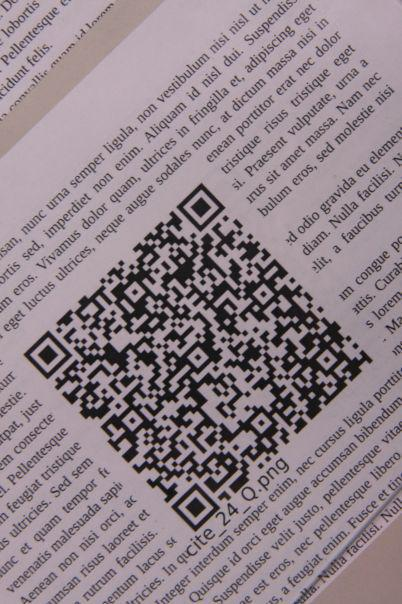Finder pattern: (171, 180, 231, 231), (169, 481, 221, 532), (25, 331, 75, 382)
